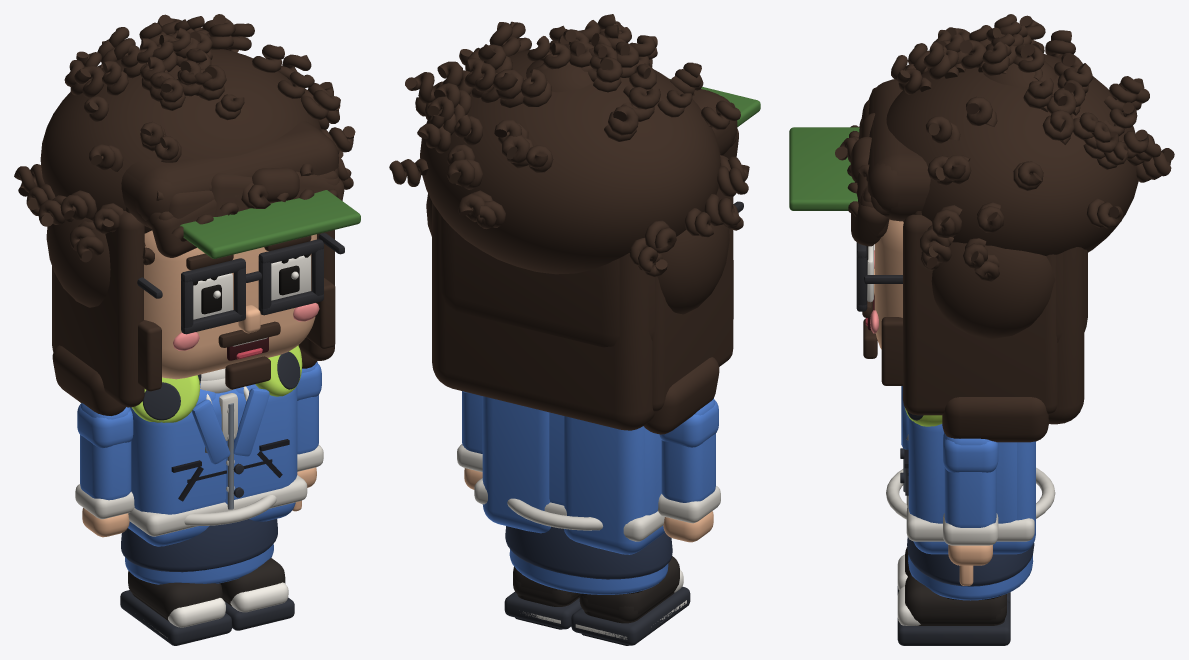
Rendered from boneco_crianca.glb.
The picture shows the model from 3 angles, left to right: view 1: azimuth 30°, elevation 25°; view 2: azimuth 150°, elevation 25°; view 3: azimuth 270°, elevation 25°; orthographic projection. The views are drawn at different scales.
Parts seen in each view (by area): view 1: Icosphere.005, Cube.063, Cube.129, boneco_rosto, Cube.143, Cone, Cube.141, Icosphere.006, Cube.127, Cube.070, Cube.064, Cube.130 (+68 smaller); view 2: Icosphere.005, Cube.128, Cube.142, Cube.056, Cube.059, Cube.129, Cone, Icosphere.006, Cube.070, Cube.063, Cube.130, Cube.014 (+46 smaller); view 3: Icosphere.005, Cube.132, Icosphere.007, Cube.063, Cube.143, Cube.133, Cube.128, Cube.075, Cube.141, Cone, Cube.037, Cube.059 (+37 smaller).
Part boxes in pixels (<box>): Icosphere.005: <box>40,49,321,233</box>; Cube.063: <box>130,386,297,514</box>; Cube.129: <box>53,211,144,407</box>; boneco_rosto: <box>144,230,316,379</box>; Cube.143: <box>180,190,360,258</box>; Cone: <box>121,519,277,572</box>; Cube.141: <box>122,121,326,228</box>; Icosphere.006: <box>46,217,110,307</box>; Cube.127: <box>121,135,338,220</box>; Cube.070: <box>80,403,131,500</box>; Cube.064: <box>128,475,307,536</box>; Cube.130: <box>52,345,125,415</box>; Icosphere.005: <box>420,49,720,274</box>; Cube.128: <box>432,202,655,430</box>; Cube.142: <box>441,216,654,347</box>; Cube.056: <box>564,416,664,554</box>; Cube.059: <box>482,396,550,533</box>; Cube.129: <box>652,155,733,411</box>; Cone: <box>505,526,672,579</box>; Icosphere.006: <box>657,224,729,314</box>; Cube.070: <box>661,398,715,502</box>; Cube.063: <box>549,412,661,515</box>; Cube.130: <box>644,357,719,434</box>; Cube.014: <box>571,586,690,645</box>; Icosphere.005: <box>886,53,1138,255</box>; Cube.132: <box>903,214,1057,415</box>; Icosphere.007: <box>931,242,1055,338</box>; Cube.063: <box>908,417,1016,523</box>; Cube.143: <box>789,127,859,210</box>; Cube.133: <box>942,397,1048,442</box>; Cube.128: <box>1048,247,1084,424</box>; Cube.075: <box>944,434,996,527</box>; Cube.141: <box>874,79,929,221</box>; Cone: <box>907,537,1034,586</box>; Cube.037: <box>905,574,1006,620</box>; Cube.059: <box>913,441,1035,554</box>.
Size of the model in its own units: 0.8652 by 1.56 by 0.932.
